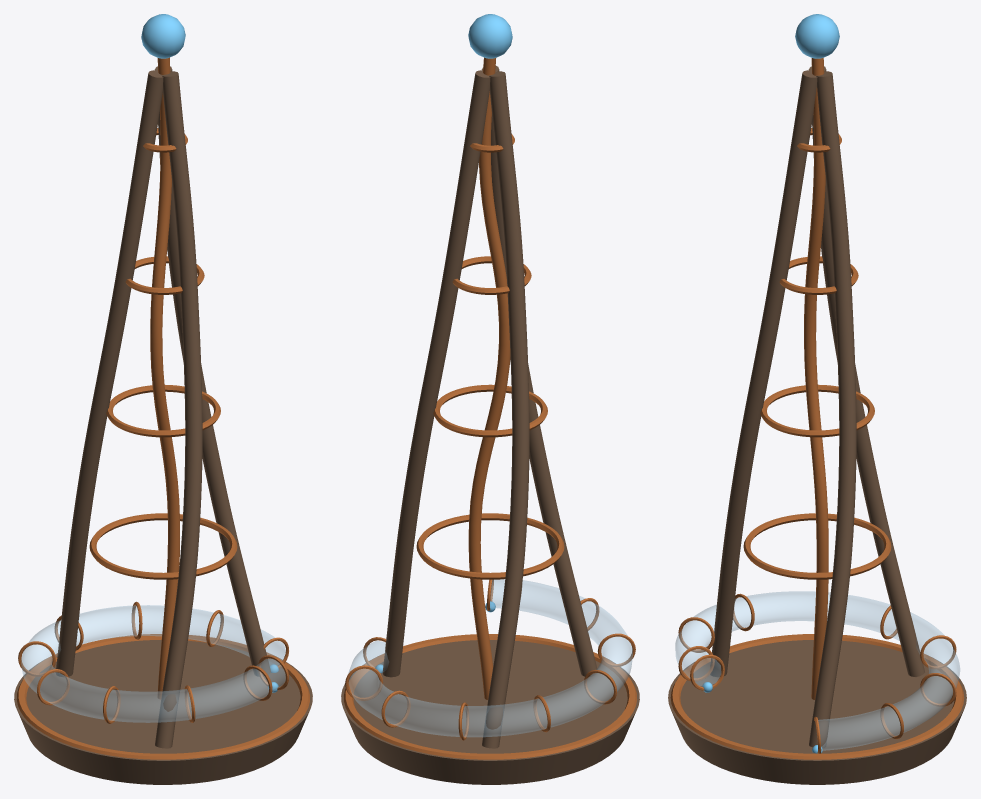
The model's file is warpturm.obj.
3 renders of one model, left to right at view 1: azimuth 30°, elevation 25°; view 2: azimuth 150°, elevation 25°; view 3: azimuth 270°, elevation 25°, orthographic.
Visible parts, largest first — view 1: Warpturm; view 2: Warpturm; view 3: Warpturm.
Part boxes in pixels (bbox=[...]): Warpturm: bbox=[14, 14, 312, 784]; Warpturm: bbox=[341, 14, 639, 784]; Warpturm: bbox=[668, 14, 966, 784].
Bounding box in the file's own units: 12 × 31.5 × 12.
